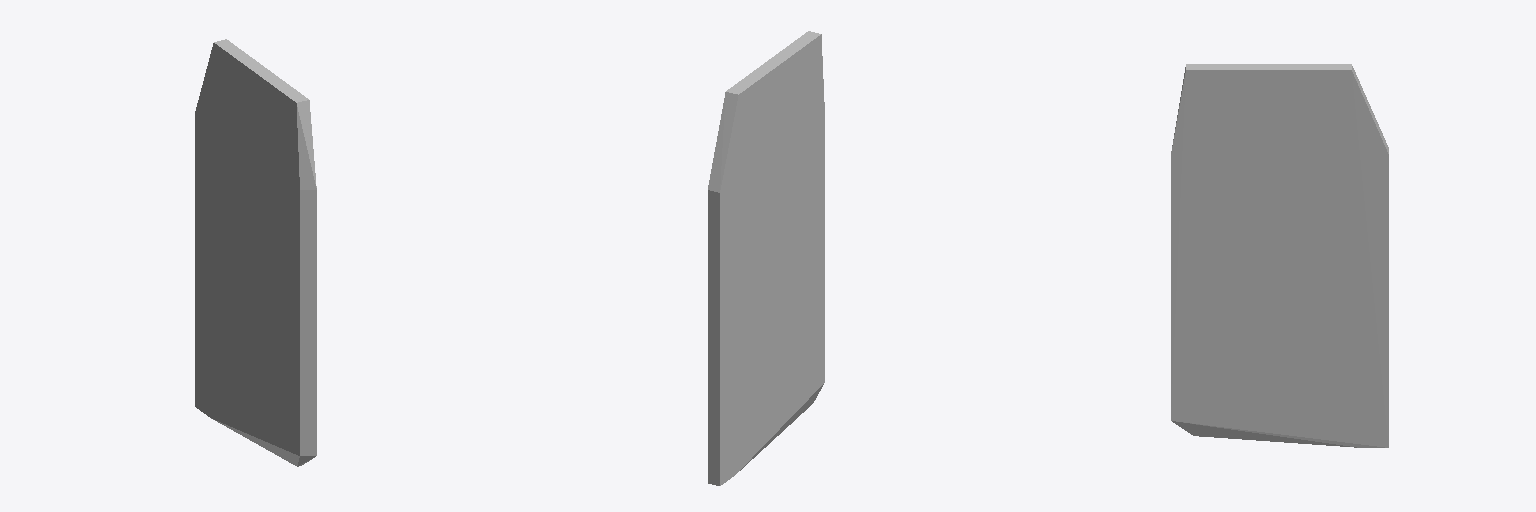
The model's file is raw_model_collision_3.obj.
The picture shows the model from 3 angles: view 1: azimuth 30°, elevation 25°; view 2: azimuth 150°, elevation 25°; view 3: azimuth 270°, elevation 25°; orthographic projection.
Size of the model in its own units: 0.02 by 0.5536 by 0.2895.